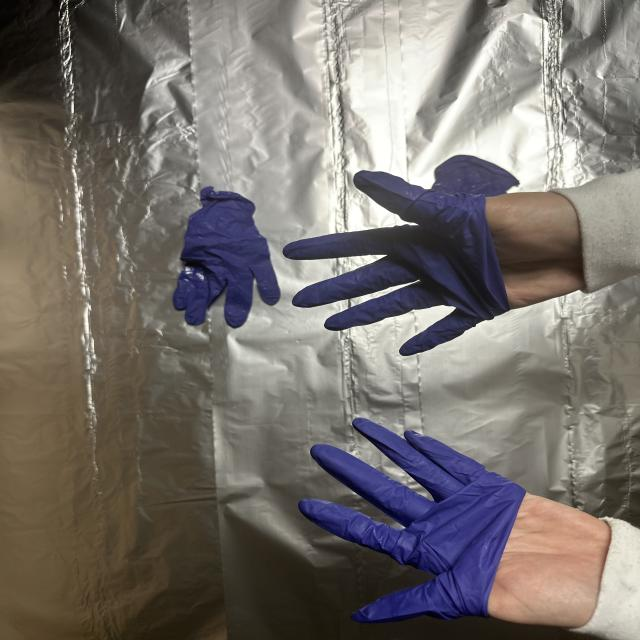glove_partial: (290, 416, 613, 633), (280, 162, 588, 358)
